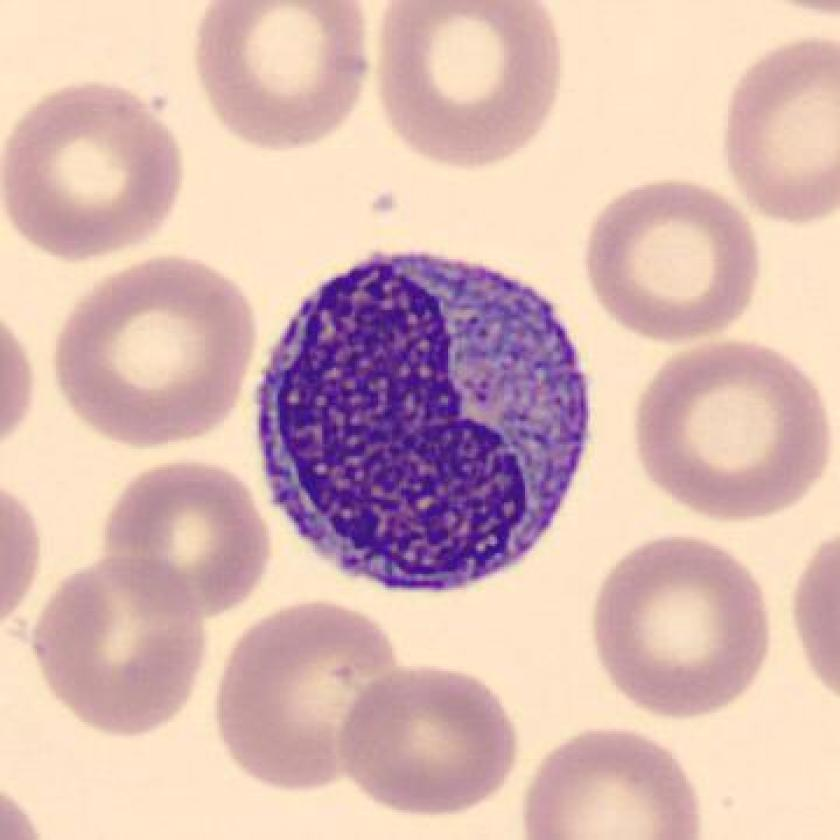monocyte: (239, 230, 612, 603)
